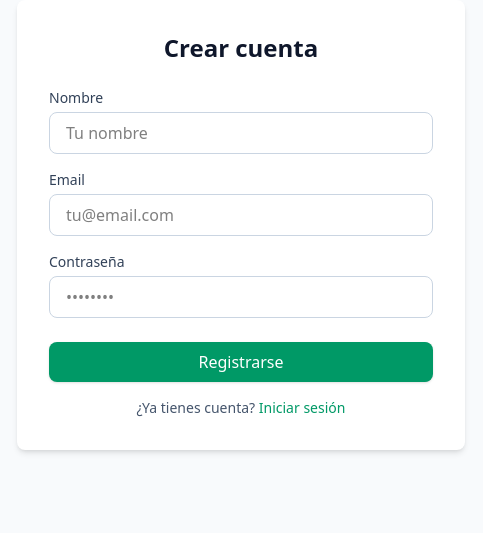
Test: <Register /> › debe validar que todos los campos son obligatorios
Click the button "Registrarse" at (241, 362), box [49, 342, 433, 382]
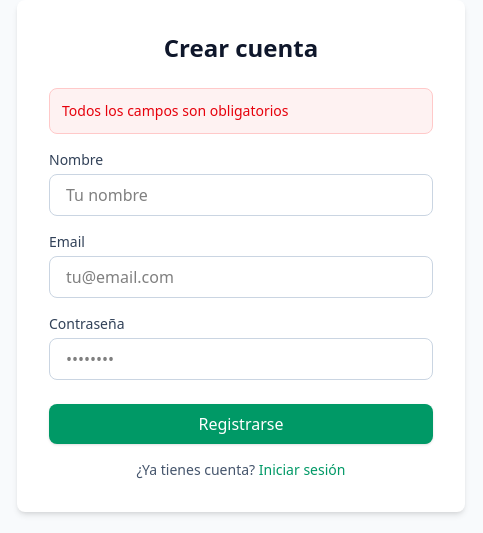
Now the text "Todos los campos son obligatorios" is shown, box [62, 101, 289, 120]
